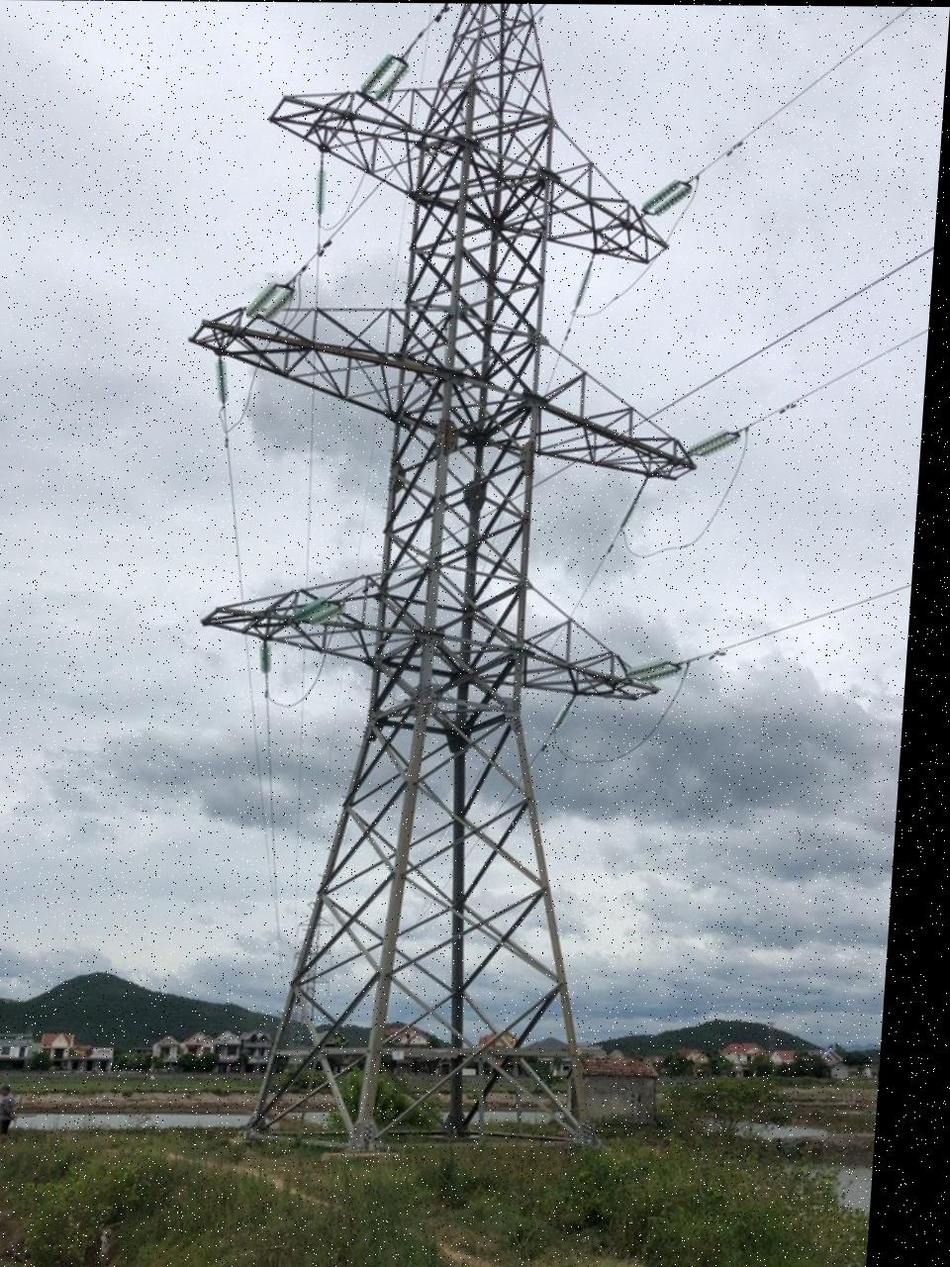tower: (158, 4, 746, 1178)
